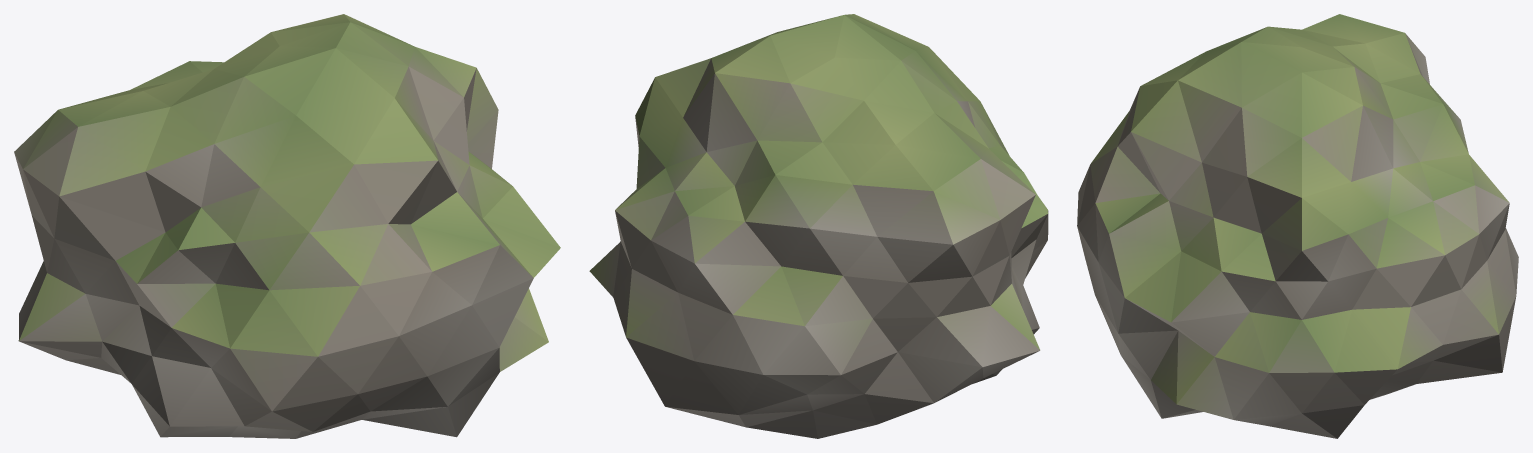
File: boulder.glb
3 renders of one model, left to right at view 1: azimuth 30°, elevation 25°; view 2: azimuth 150°, elevation 25°; view 3: azimuth 270°, elevation 25°, orthographic. The views are drawn at different scales.
Parts seen in each view (by area): view 1: geo_boulder_mossy_a; view 2: geo_boulder_mossy_a; view 3: geo_boulder_mossy_a.
Boxes of the visible parts, x1,y1,x2,y2 form: geo_boulder_mossy_a: (14,14,560,438); geo_boulder_mossy_a: (589,14,1048,438); geo_boulder_mossy_a: (1077,14,1518,438).
Size of the model in its own units: 2.21 by 1.73 by 2.
